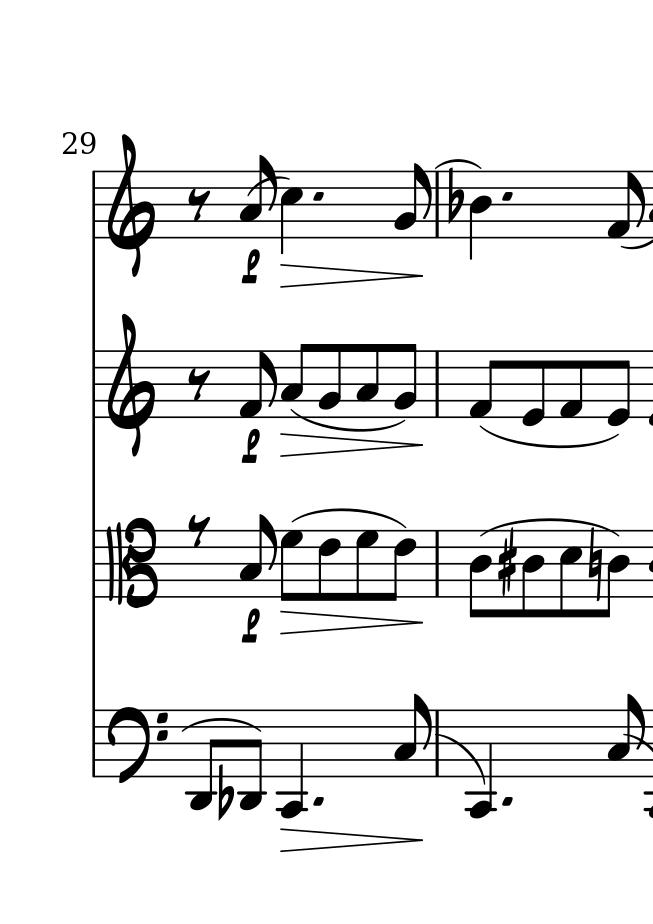2: (60, 130, 79, 157)
4_-4: (278, 708, 309, 820), (466, 707, 497, 819)
4_4: (468, 171, 493, 261)
4_5: (279, 170, 304, 254)
8_-3: (186, 708, 219, 812), (239, 708, 264, 814)
8_0: (520, 349, 547, 430), (605, 349, 632, 429)
8_1: (605, 170, 647, 241), (238, 350, 278, 420), (468, 349, 501, 420), (558, 348, 584, 420)
8_2: (608, 692, 642, 777), (394, 163, 430, 239), (393, 343, 418, 419), (318, 342, 342, 419)
8_3: (238, 514, 277, 600), (393, 693, 430, 779), (279, 342, 311, 421), (355, 343, 380, 419)
8_4: (604, 530, 630, 622), (467, 530, 492, 621), (521, 530, 545, 620)
8_5: (557, 529, 582, 621)
8_6: (389, 529, 417, 603), (317, 529, 341, 603)
8_7: (354, 529, 378, 602), (280, 530, 302, 603)
9: (78, 130, 96, 157)
Cclef: (105, 516, 157, 607)
Diminuendo_hairpin: (279, 610, 425, 636), (279, 262, 426, 287), (279, 828, 423, 852), (280, 434, 423, 458)
Fclef: (109, 705, 167, 787)
Flat: (446, 167, 464, 225), (216, 764, 233, 822)
Gclef: (108, 131, 156, 277), (107, 312, 155, 458)
Natural: (587, 533, 603, 602)
Rests8: (186, 366, 212, 402), (186, 188, 212, 222), (187, 513, 211, 549)
Sharp: (496, 531, 518, 596)
Single_barline: (431, 169, 447, 237), (429, 350, 445, 416), (86, 710, 101, 776), (431, 709, 445, 777), (87, 530, 101, 597), (430, 531, 444, 598), (87, 351, 101, 415), (88, 170, 101, 238)
Slur: (479, 425, 619, 449), (290, 408, 407, 433), (293, 505, 409, 529), (436, 734, 487, 786), (481, 518, 623, 536), (180, 717, 261, 734), (434, 159, 481, 169)
dot: (499, 189, 516, 204), (501, 792, 516, 808), (310, 189, 326, 203)
p: (239, 428, 262, 468), (239, 609, 264, 645), (239, 250, 263, 286)
